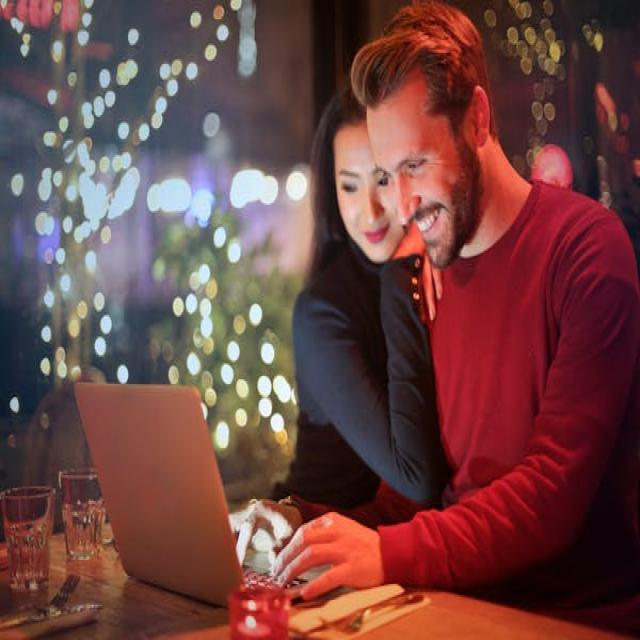Real human 2: (260, 0, 640, 640)
